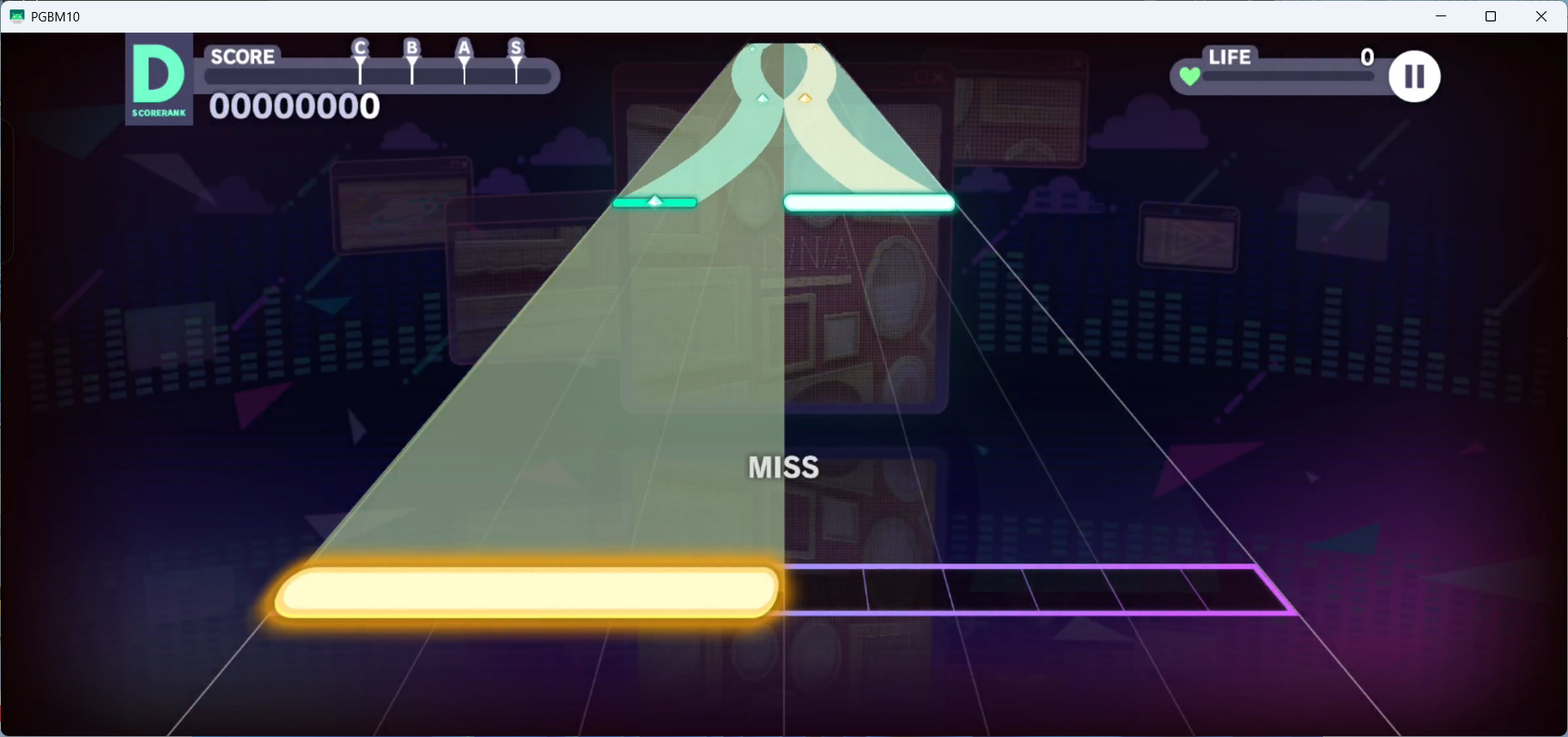hold: (299, 42, 783, 564), (785, 43, 949, 194), (626, 42, 784, 197), (785, 43, 929, 192)
sweep: (613, 195, 697, 207), (798, 94, 812, 106), (757, 94, 769, 107), (748, 46, 756, 53), (811, 45, 818, 52)
tap: (276, 567, 781, 621), (784, 193, 954, 212)
